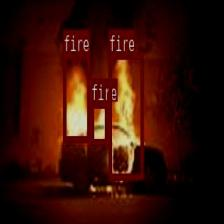fire: (108, 51, 143, 179), (62, 52, 90, 140), (90, 101, 107, 144)
